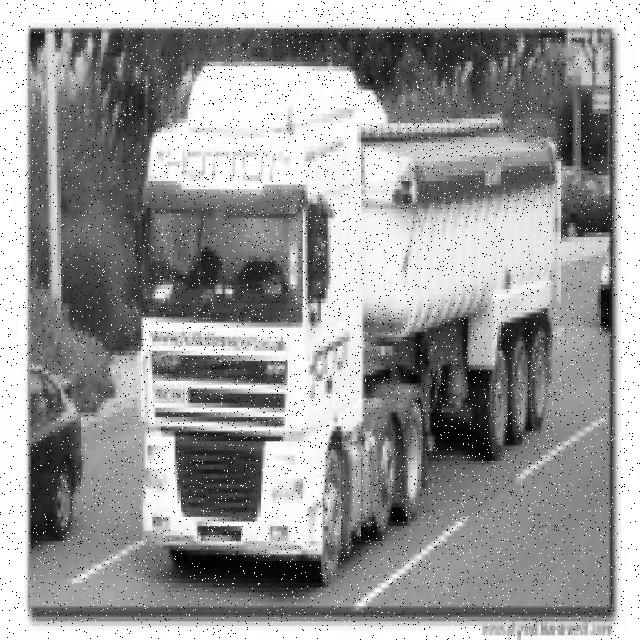Tractor Trailer: (134, 63, 563, 585)
